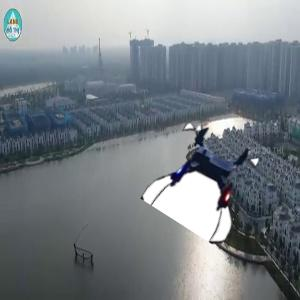drone: (154, 126, 260, 232)
